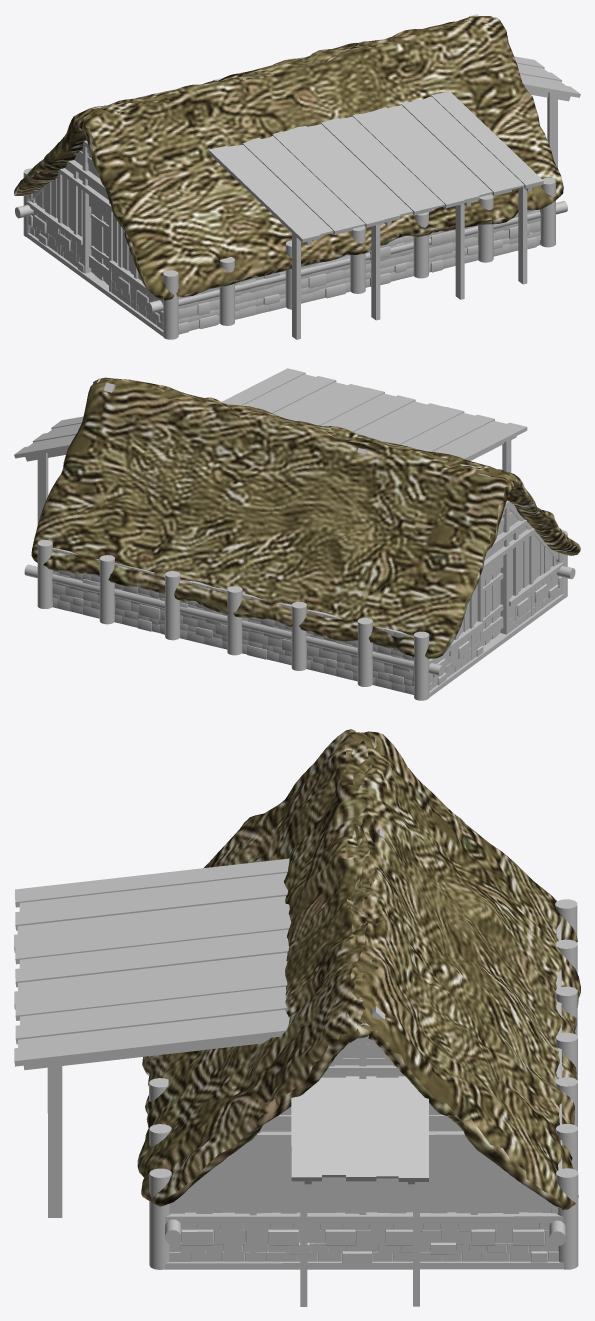
The model's file is lowpoly_viking_house_005.fbx.
3 renders of one model, top to bottom at view 1: azimuth 30°, elevation 25°; view 2: azimuth 150°, elevation 25°; view 3: azimuth 270°, elevation 25°, orthographic. The views are drawn at different scales.
Parts seen in each view (by area): view 1: Plane.014, Wall.136, Cube.2594, Cube.2604, Cube.2593, Cube.2609, Cube.2591, Cube.2607, Cube.2602, Cube.2601, Cube.2610, Cylinder.111 (+23 smaller); view 2: Plane.014, Wall.136, Cylinder.112, Cube.2430, Cube.2594, Cube.2477, Cylinder.107, Cylinder.121, Cylinder.116, Cylinder.110, Cylinder.118, Cube.2609 (+20 smaller); view 3: Plane.014, Wall.136, Cube.2609, Cube.2604, Cube.2591, Cube.2607, Cube.2594, Cube.2534, Cube.2593, Cube.2601, Cube.2602, Cube.2610 (+27 smaller).
Part boxes in pixels (x1=…): Plane.014: x1=14, y1=16, x2=563, y2=300; Wall.136: x1=28, y1=193, x2=540, y2=334; Cube.2594: x1=208, y1=146, x2=320, y2=242; Cube.2604: x1=321, y1=118, x2=432, y2=215; Cube.2593: x1=272, y1=129, x2=384, y2=227; Cube.2609: x1=431, y1=92, x2=543, y2=188; Cube.2591: x1=243, y1=138, x2=352, y2=234; Cube.2607: x1=401, y1=99, x2=512, y2=195; Cube.2602: x1=352, y1=112, x2=464, y2=208; Cube.2601: x1=290, y1=126, x2=400, y2=222; Cube.2610: x1=371, y1=107, x2=479, y2=203; Cylinder.111: x1=147, y1=201, x2=567, y2=313; Plane.014: x1=31, y1=377, x2=580, y2=658; Wall.136: x1=52, y1=548, x2=563, y2=694; Cylinder.112: x1=24, y1=564, x2=444, y2=676; Cube.2430: x1=483, y1=556, x2=503, y2=646; Cube.2594: x1=448, y1=422, x2=527, y2=460; Cube.2477: x1=429, y1=594, x2=564, y2=697; Cylinder.107: x1=357, y1=618, x2=372, y2=686; Cylinder.121: x1=99, y1=555, x2=114, y2=624; Cylinder.116: x1=414, y1=631, x2=429, y2=700; Cylinder.110: x1=291, y1=601, x2=306, y2=670; Cylinder.118: x1=37, y1=540, x2=52, y2=608; Cube.2609: x1=222, y1=368, x2=305, y2=405; Plane.014: x1=137, y1=729, x2=580, y2=1210; Wall.136: x1=169, y1=921, x2=562, y2=1262; Cube.2609: x1=14, y1=1017, x2=289, y2=1066; Cube.2604: x1=15, y1=938, x2=288, y2=987; Cube.2591: x1=15, y1=882, x2=287, y2=930; Cube.2607: x1=15, y1=995, x2=286, y2=1044; Cube.2594: x1=15, y1=858, x2=289, y2=907; Cube.2534: x1=165, y1=1212, x2=563, y2=1222; Cube.2593: x1=14, y1=904, x2=289, y2=952; Cube.2601: x1=15, y1=916, x2=291, y2=964; Cube.2602: x1=14, y1=961, x2=287, y2=1009; Cube.2610: x1=15, y1=974, x2=287, y2=1020.
Size of the model in its own units: 7.15 by 2.56 by 5.
